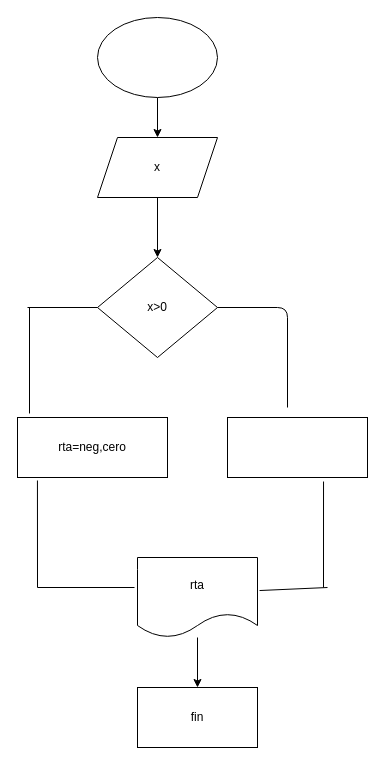
Some shapes in this 385 by 765 pixel diagram are drawn without their labels. Each missing label, with the centre of its shape:
incio: the point at 157,57
rta="positivo": the point at 297,447
